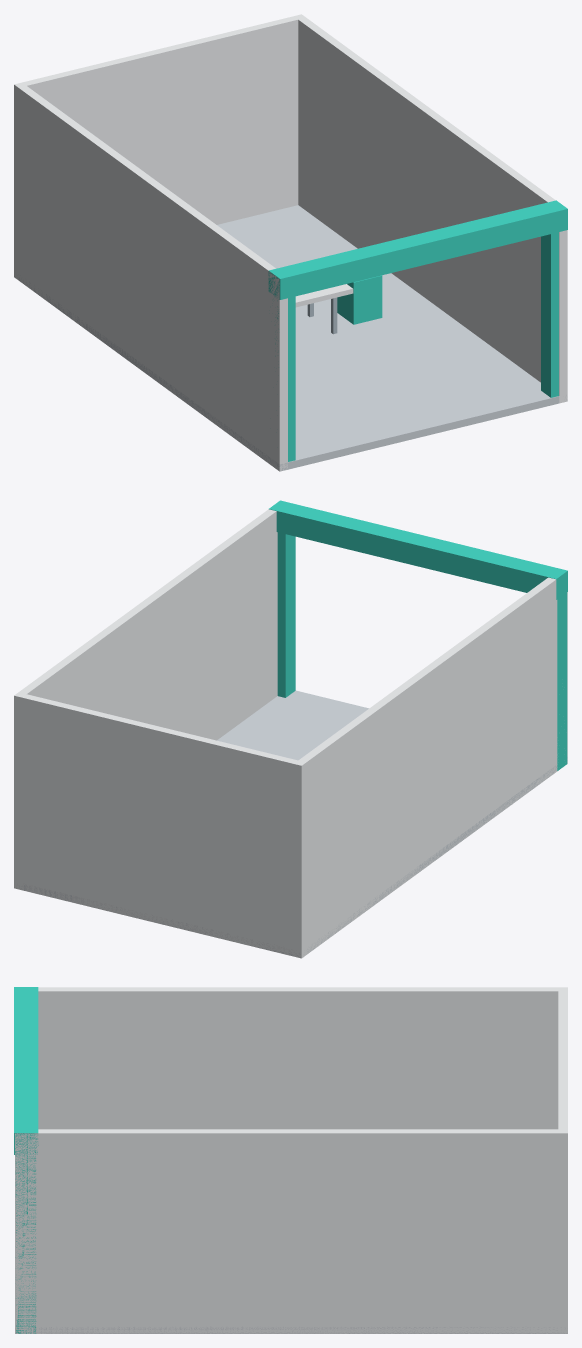
The picture shows the model from 3 angles, top to bottom: view 1: azimuth 30°, elevation 25°; view 2: azimuth 150°, elevation 25°; view 3: azimuth 270°, elevation 25°; orthographic projection. The views are drawn at different scales.
Visible parts, largest first — view 1: Exhibition Booth Concept; view 2: Exhibition Booth Concept; view 3: Exhibition Booth Concept.
Part boxes in pixels (bbox=[...]): Exhibition Booth Concept: bbox=[14, 14, 567, 471]; Exhibition Booth Concept: bbox=[14, 500, 567, 958]; Exhibition Booth Concept: bbox=[14, 987, 567, 1333].
Size of the model in its own units: 5 by 3.2 by 8.01.
